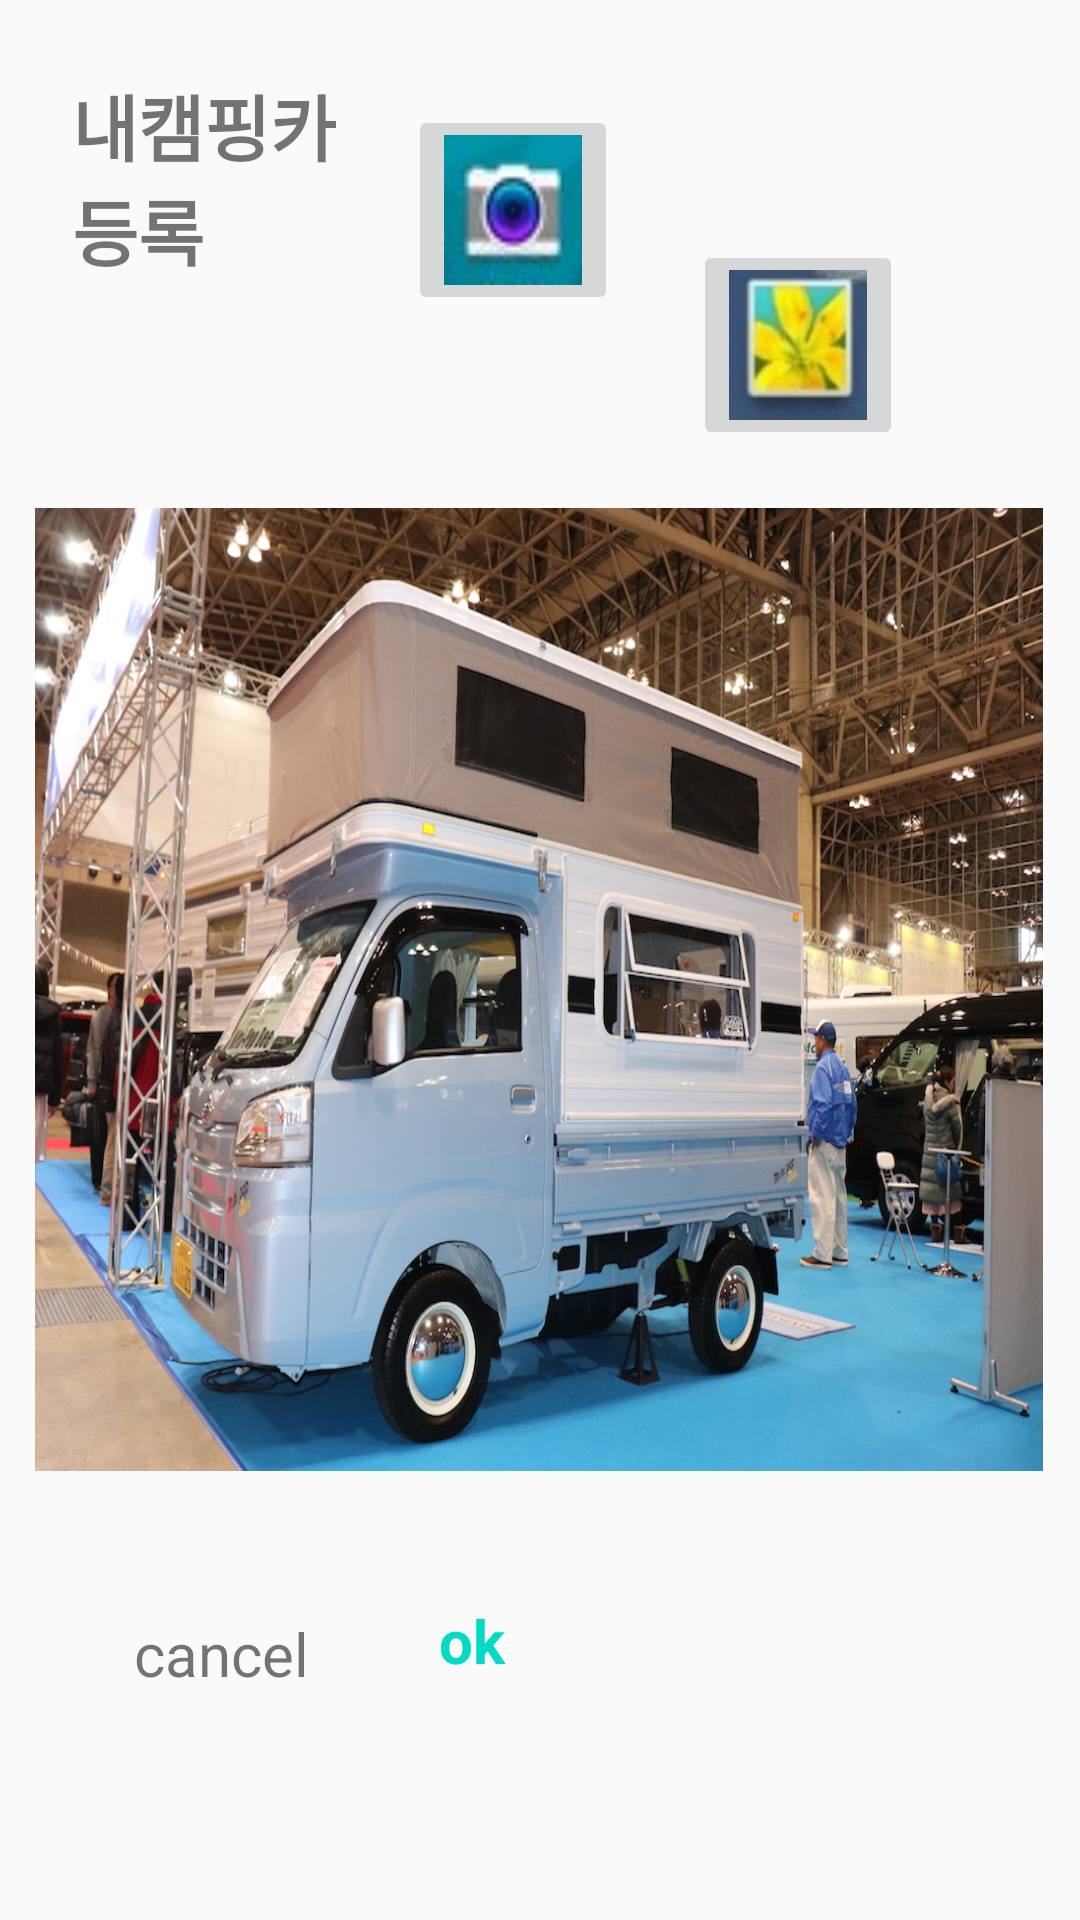

Screen size 1080px x 1920px. Icon name, then its center in pixels as point (x, y):
camera: point (513, 210)
galary: point (798, 345)
